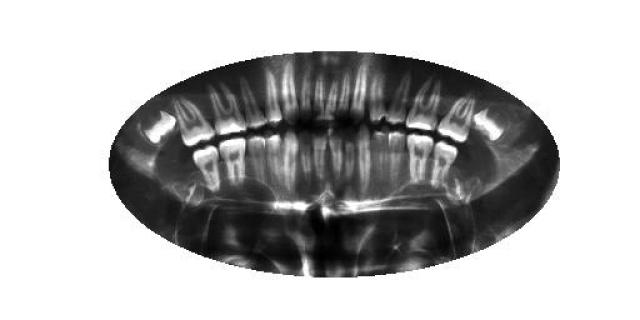Fillings: (212, 82, 246, 138), (403, 132, 435, 188)
Restorations: (139, 110, 181, 152), (471, 107, 510, 145)
